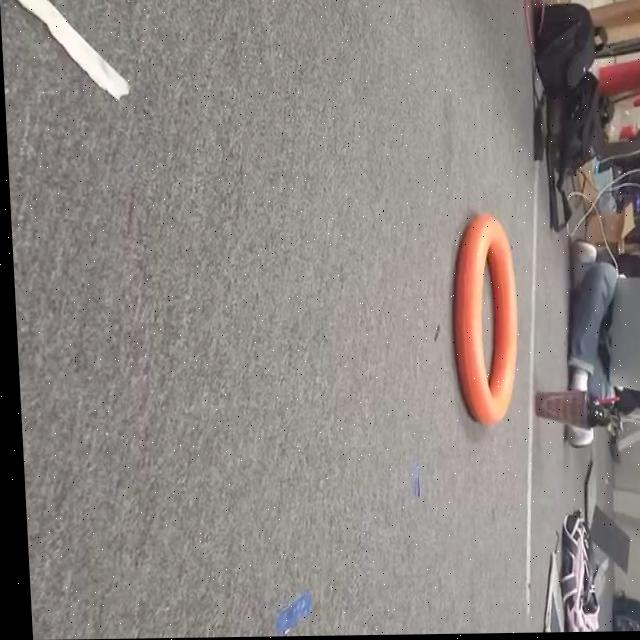note: (438, 206, 523, 441)
